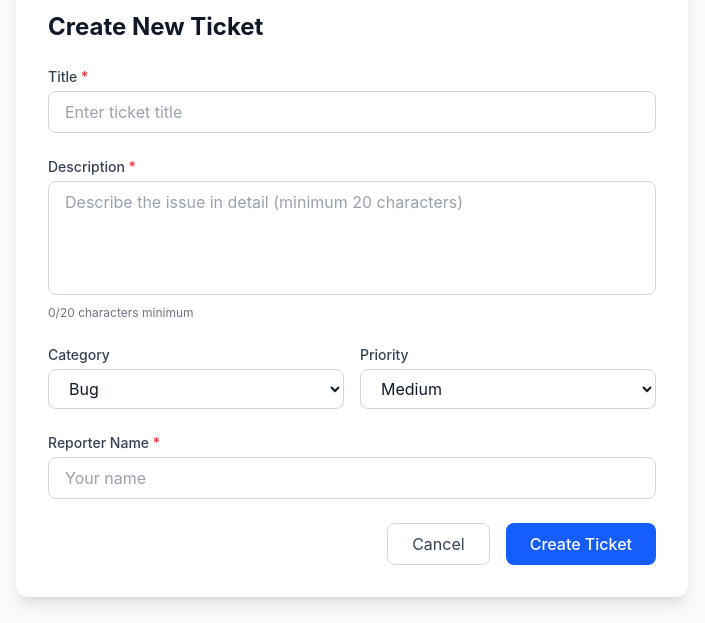
Test: TicketForm › should update character count as user types
Type "Hello" into the text box labelled "Description *".
click(352, 238); type("Hello")  # box left=48, top=181, right=656, bottom=295
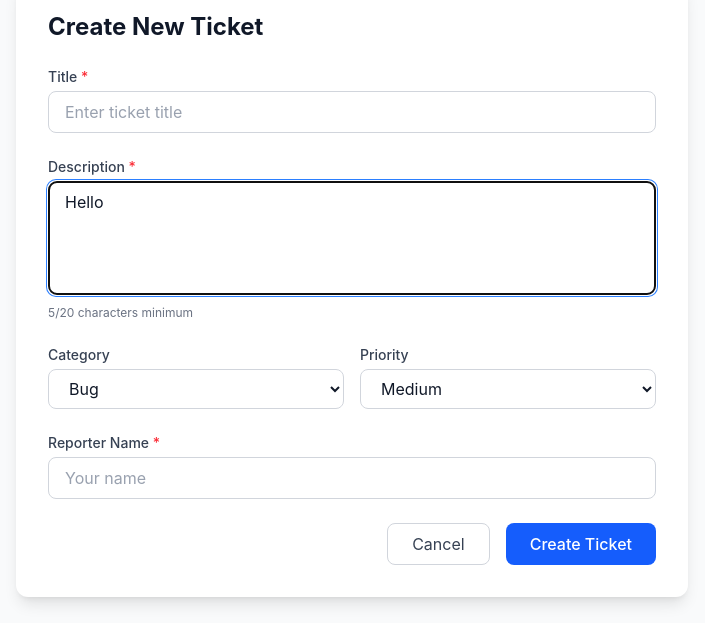
Now the text "5/20 characters minimum" is shown, box left=48, top=305, right=193, bottom=320
